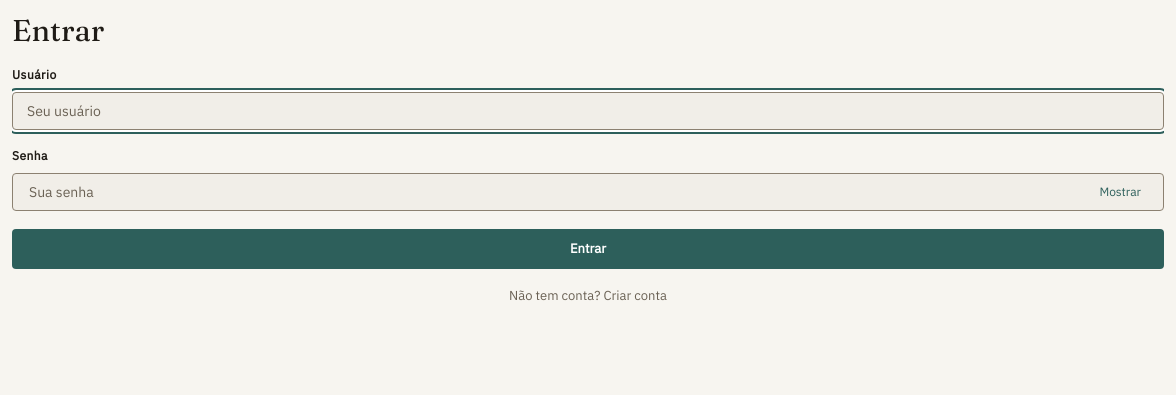
LoginForm › shows a connection-failure alert when the network request fails
In the field labelled "Usuário": (588, 111) [12,92,1164,130], type "guilherme"
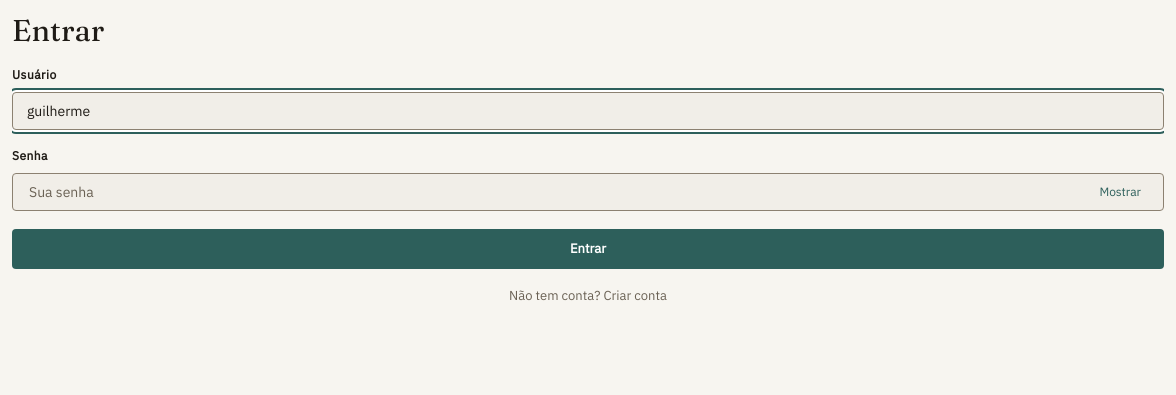
In the password field labelled "Senha": (555, 192) [27,174,1083,210], type "segredo123"
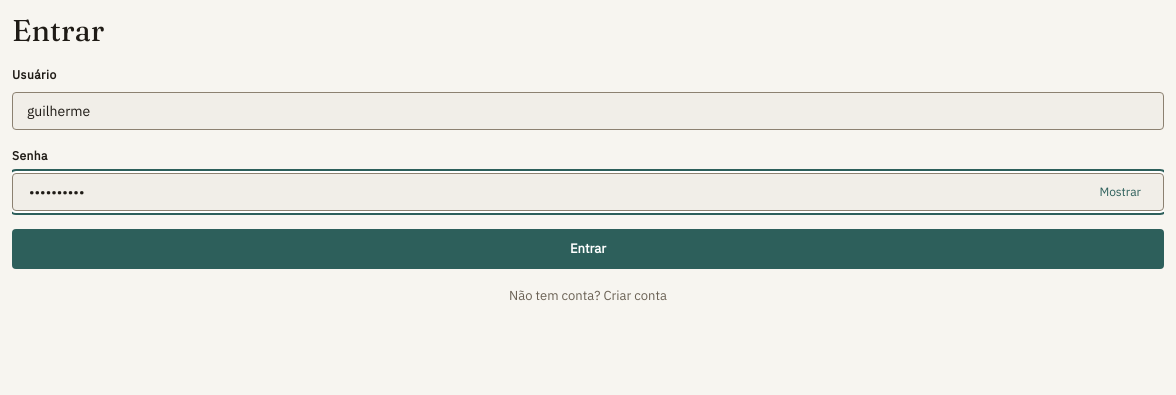
Click the button "Entrar": click(588, 249) [12,229,1164,269]
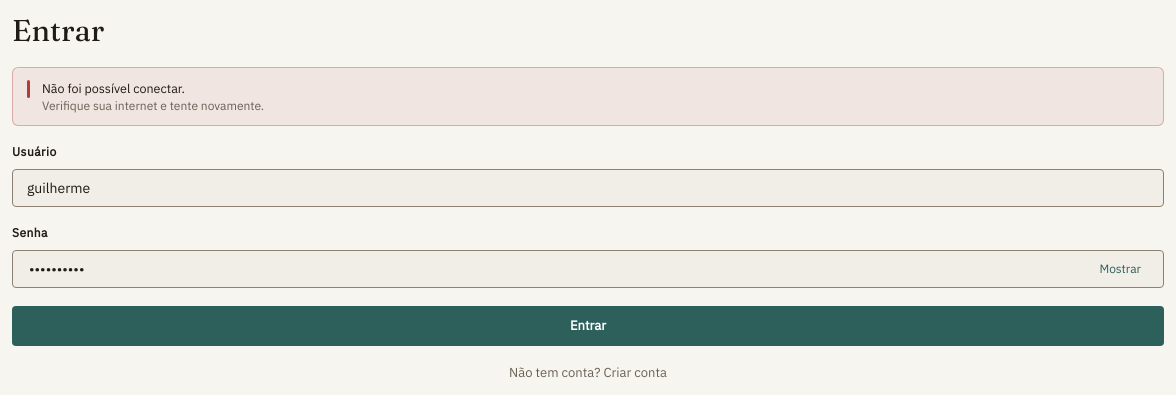
Result: the text "Não foi possível conectar." is shown at [42,80,185,96]
